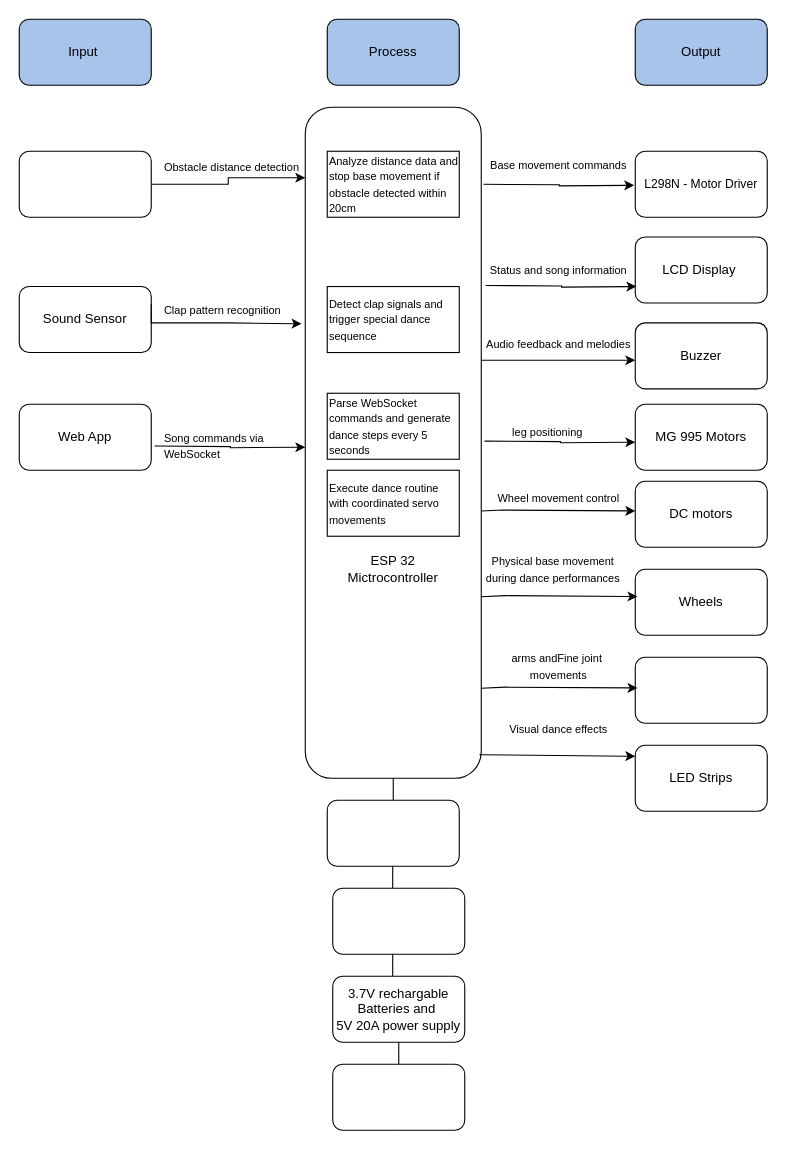
Image size: 787x1151. Some labels were removed from this diagram. Each missing label, with the centre of its shape:
"I2C Module" belongs at point (392, 832).
"LM2596 DC-DC Buck Converter Step-Down Power Module" belongs at point (398, 1096).
"PCA 9685 - Servo Driver" belongs at point (398, 920).
"SG 90 Motors" belongs at point (700, 689).
"Ultrasonic Sensor" belongs at point (84, 183).
